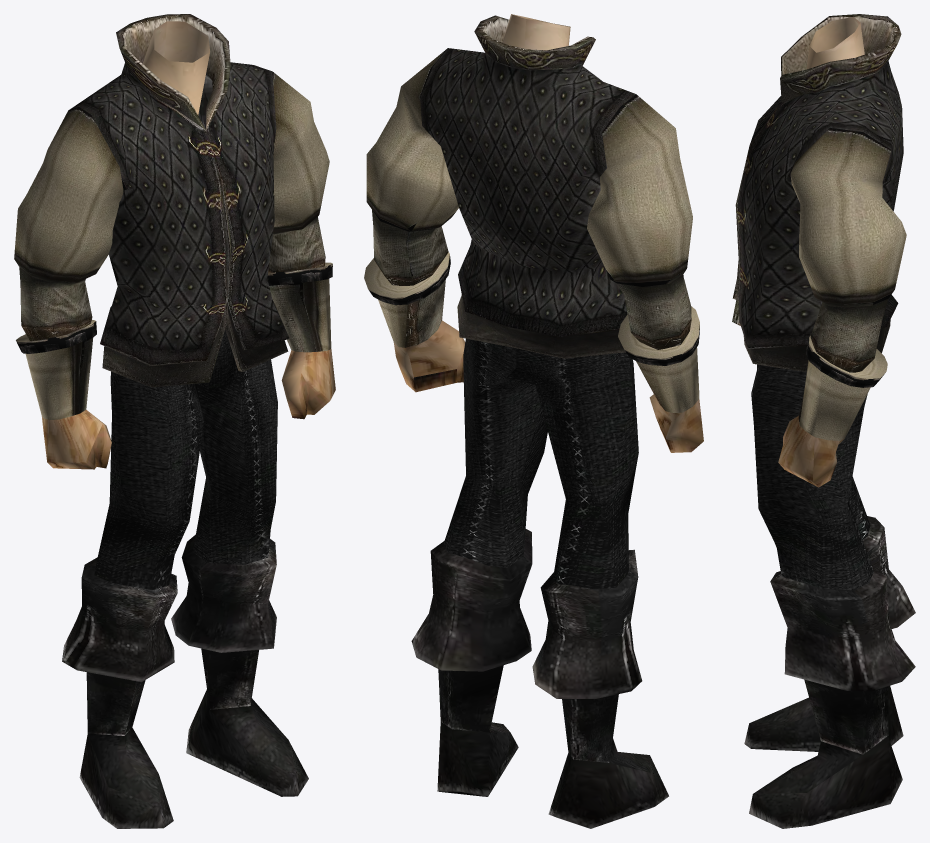
The model's file is ROTCHARD_RUSSEL.glb.
3 views of the same model, side by side, from view 1: azimuth 30°, elevation 25°; view 2: azimuth 150°, elevation 25°; view 3: azimuth 270°, elevation 25° (orthographic). The views are drawn at different scales.
Parts seen in each view (by area): view 1: ROTCHARD_RUSSEL; view 2: ROTCHARD_RUSSEL; view 3: ROTCHARD_RUSSEL.
Part boxes in pixels (bbox=[...]): ROTCHARD_RUSSEL: bbox=[14, 14, 335, 828]; ROTCHARD_RUSSEL: bbox=[364, 14, 703, 828]; ROTCHARD_RUSSEL: bbox=[732, 14, 915, 828].
Size of the model in its own units: 0.7275 by 1.69 by 0.3732.
2 materials, 2 textured.
